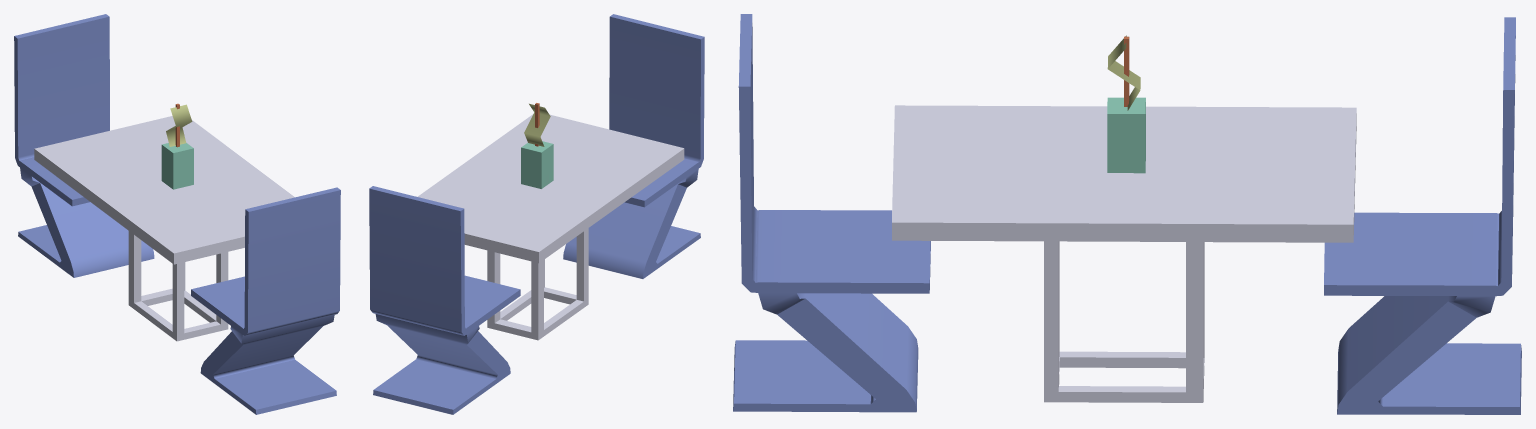
The model's file is obj_dinner_table_3x1.FBX.
3 views of the same model, side by side, from view 1: azimuth 30°, elevation 25°; view 2: azimuth 150°, elevation 25°; view 3: azimuth 270°, elevation 25° (orthographic). The views are drawn at different scales.
Parts seen in each view (by area): view 1: obj_dinner_table; view 2: obj_dinner_table; view 3: obj_dinner_table.
Boxes of the visible parts, left/top/right/bottom form: obj_dinner_table: left=14, top=14, right=340, bottom=414; obj_dinner_table: left=369, top=14, right=704, bottom=414; obj_dinner_table: left=733, top=14, right=1521, bottom=414.
Bounding box in the file's own units: 0.8486 × 1.14 × 2.37.
